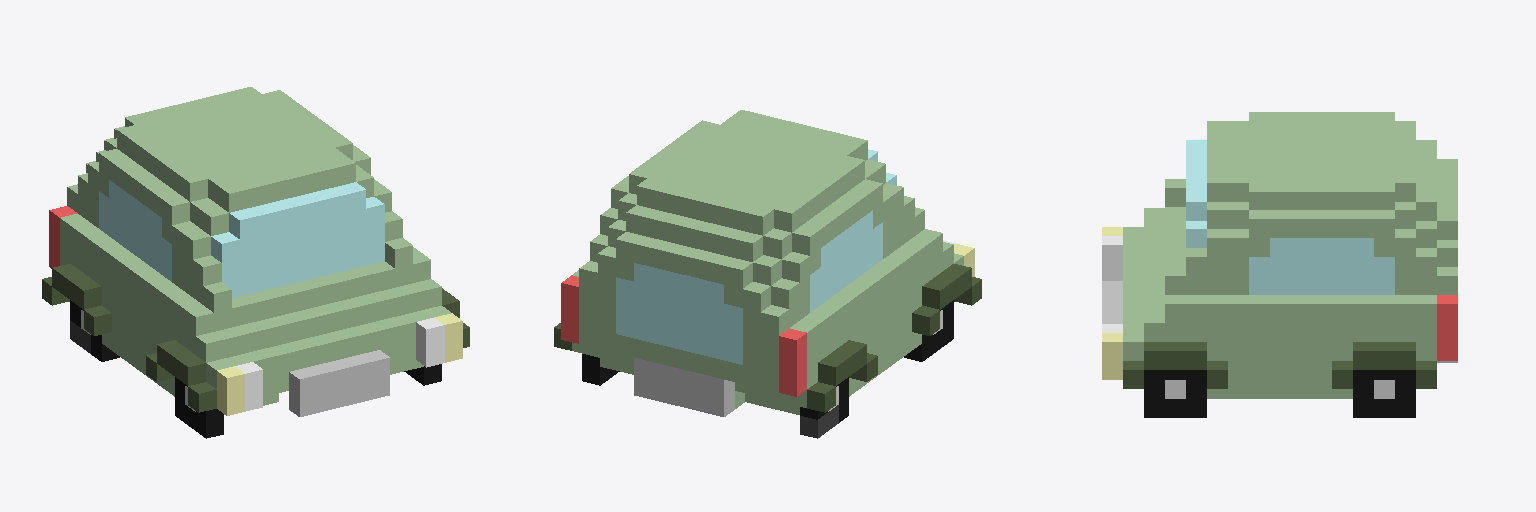
3 renders of one model, left to right at view 1: azimuth 30°, elevation 25°; view 2: azimuth 150°, elevation 25°; view 3: azimuth 270°, elevation 25°, orthographic.
Size of the model in its own units: 15 by 11 by 17.
1 materials, 1 textured.